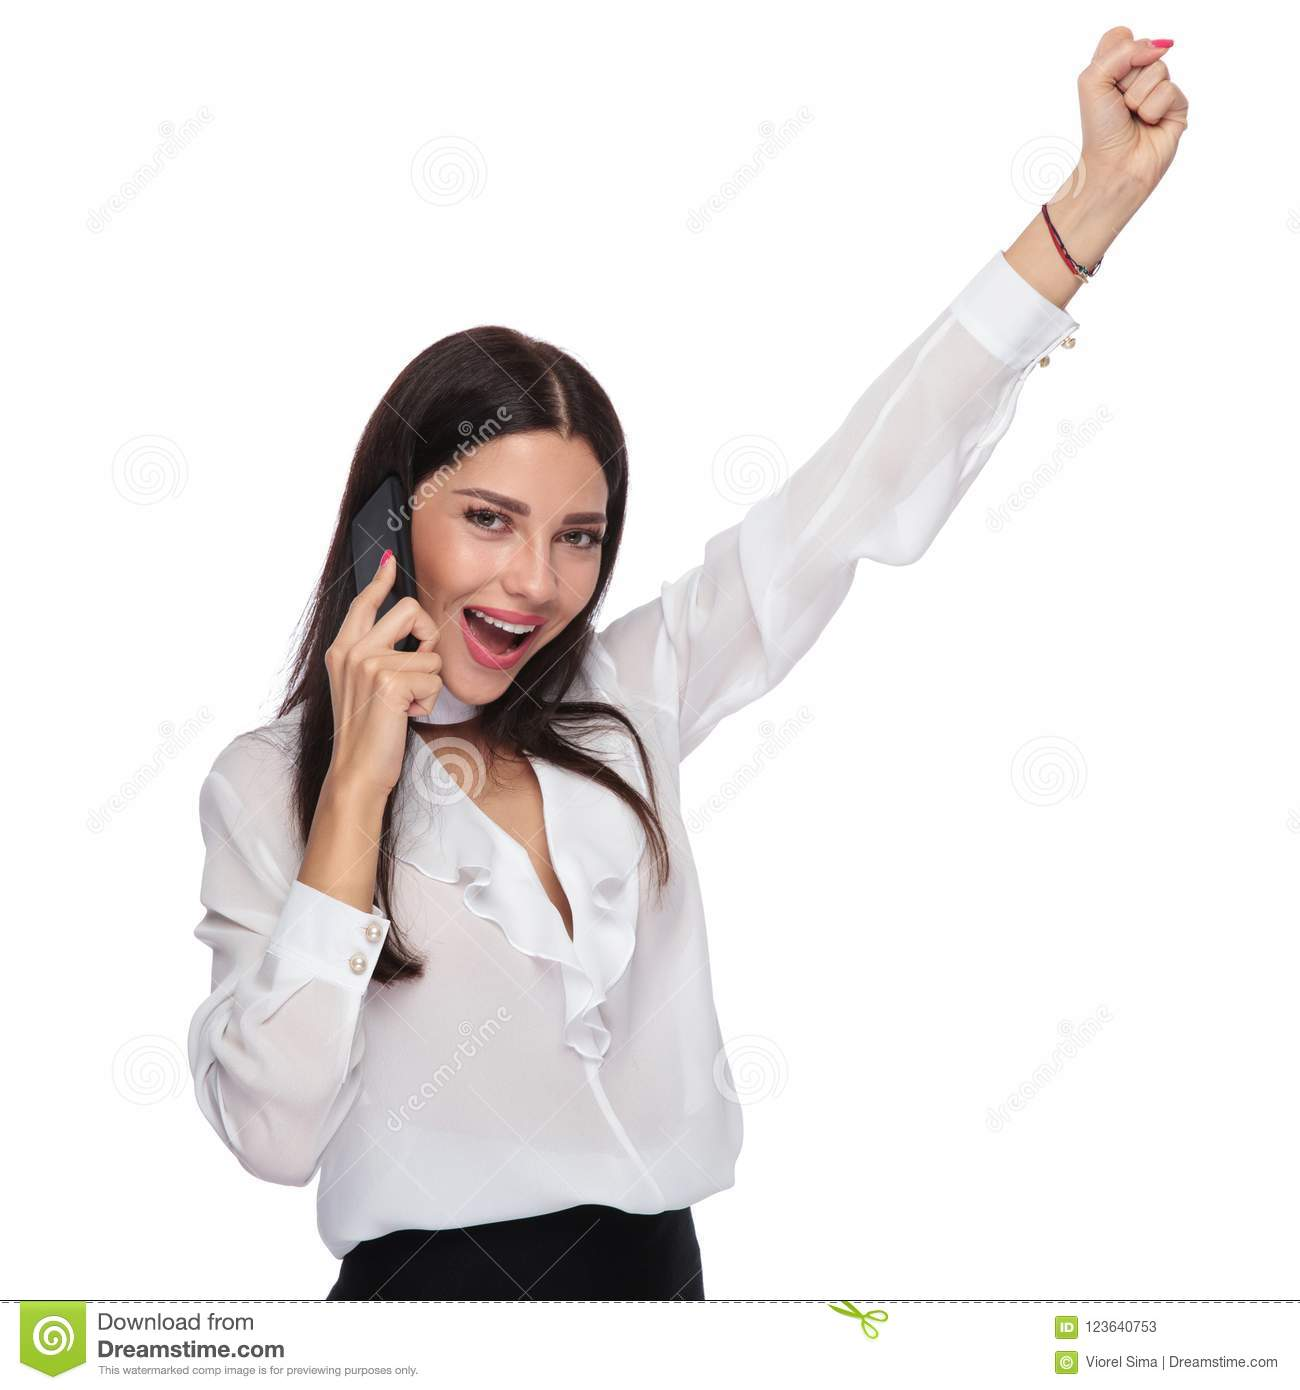phone: (351, 475, 430, 678)
talk: (323, 486, 604, 790)
